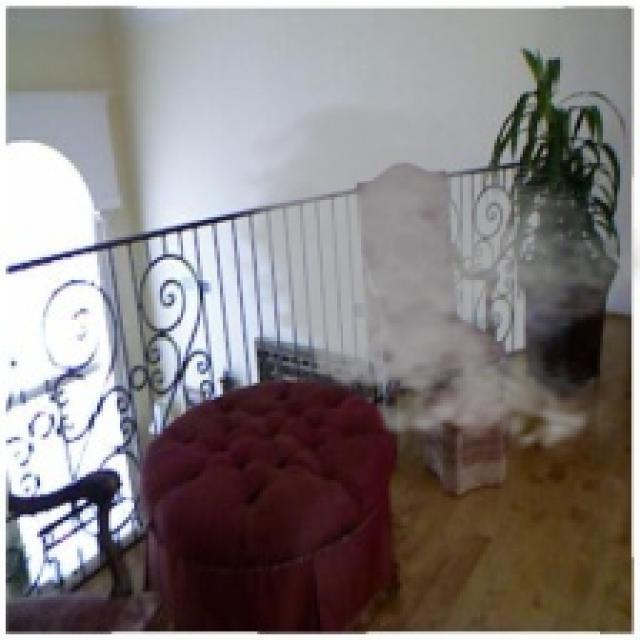Smoke: (220, 94, 637, 463)
